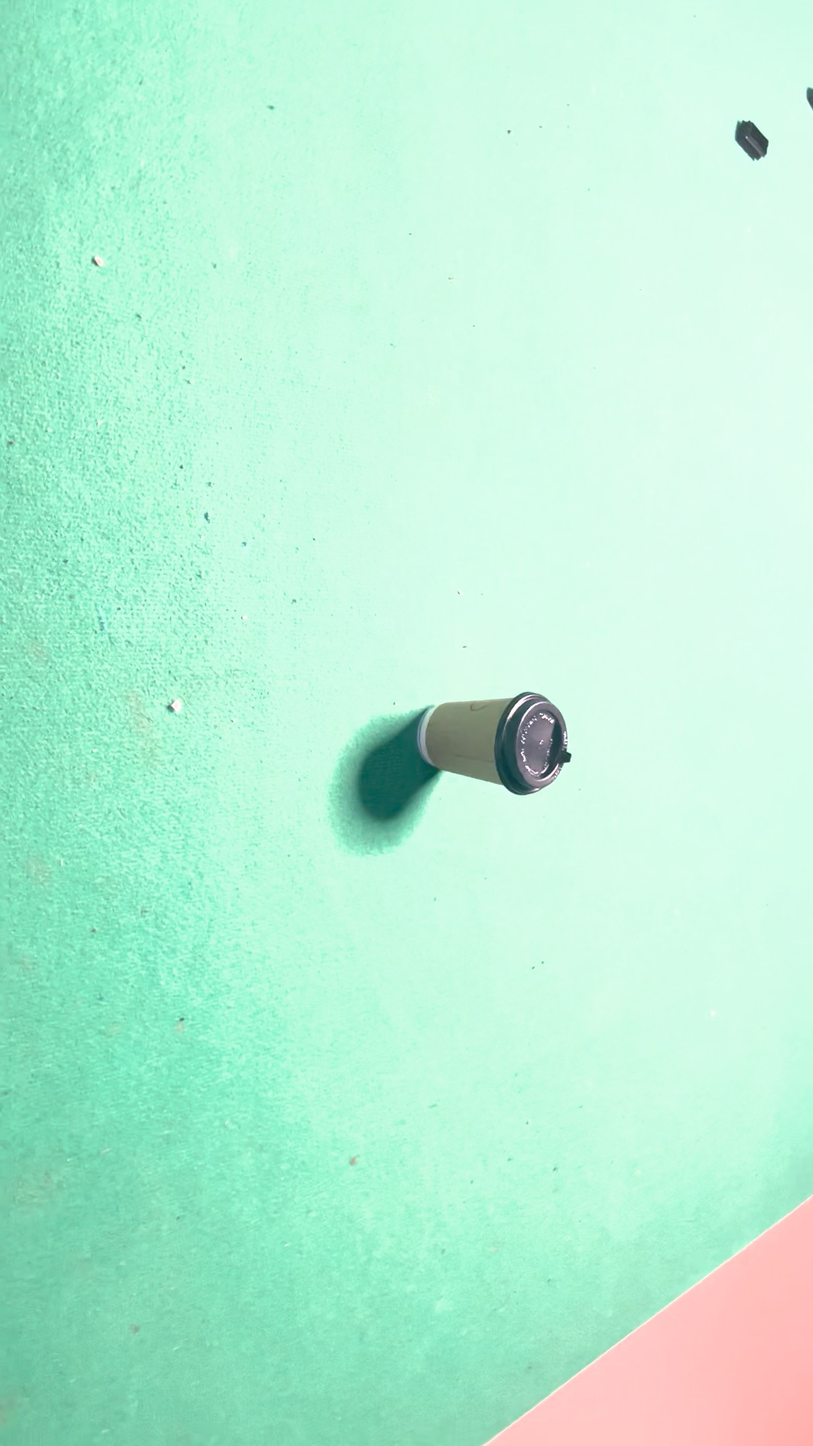cup: (397, 753, 470, 1096)
